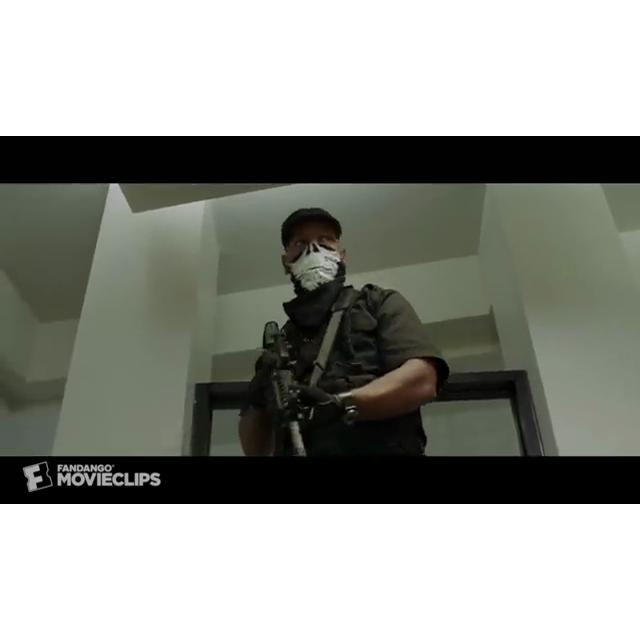criminal: (239, 208, 451, 456)
weapon: (260, 319, 310, 456)
